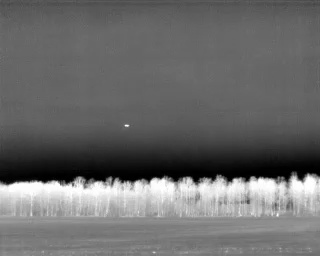DRONE: (121, 120, 133, 131)
